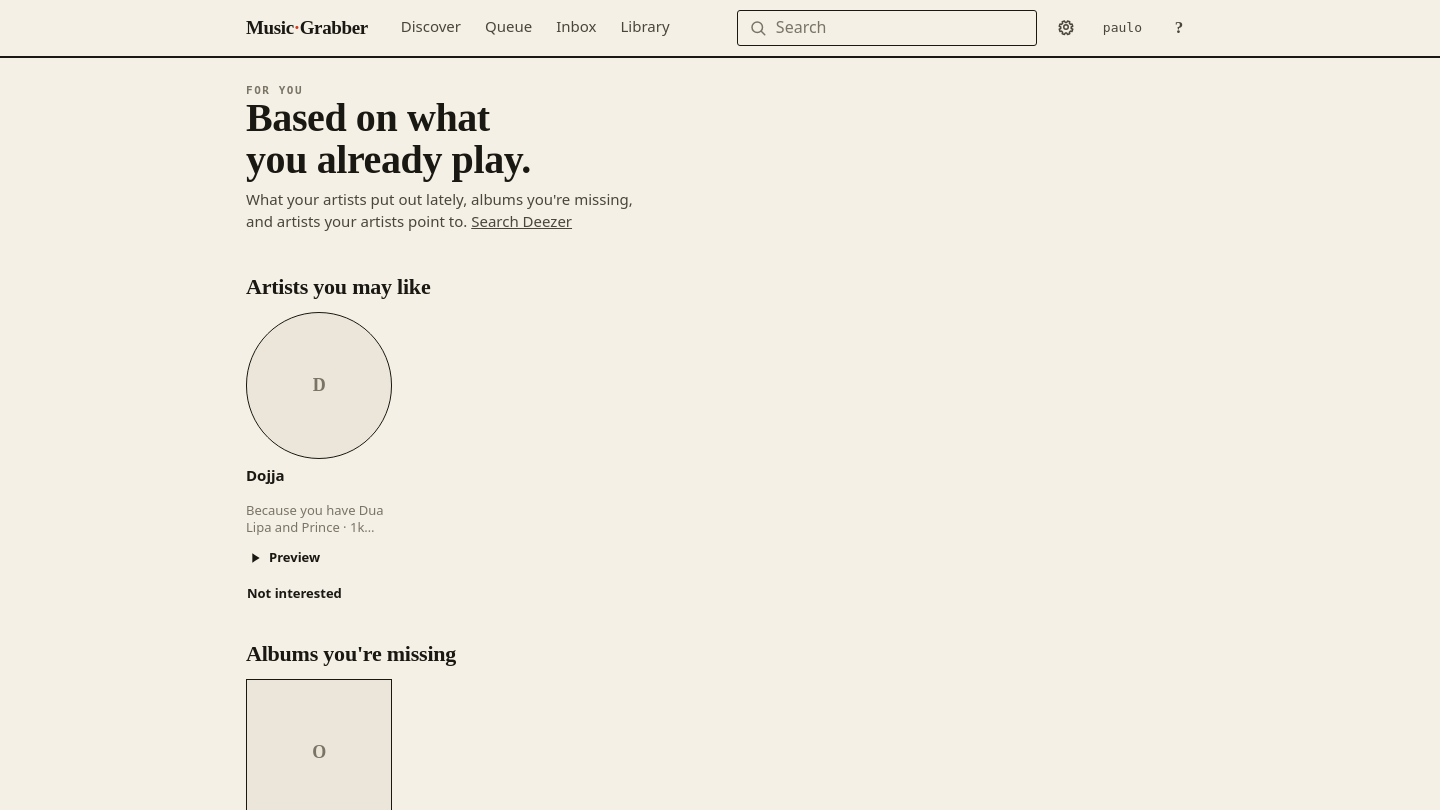
Test: tile previews › says so when there is nothing to play
Click the button with aria-label "Preview artist": (289, 558) x1=246 y1=542 x2=331 y2=574
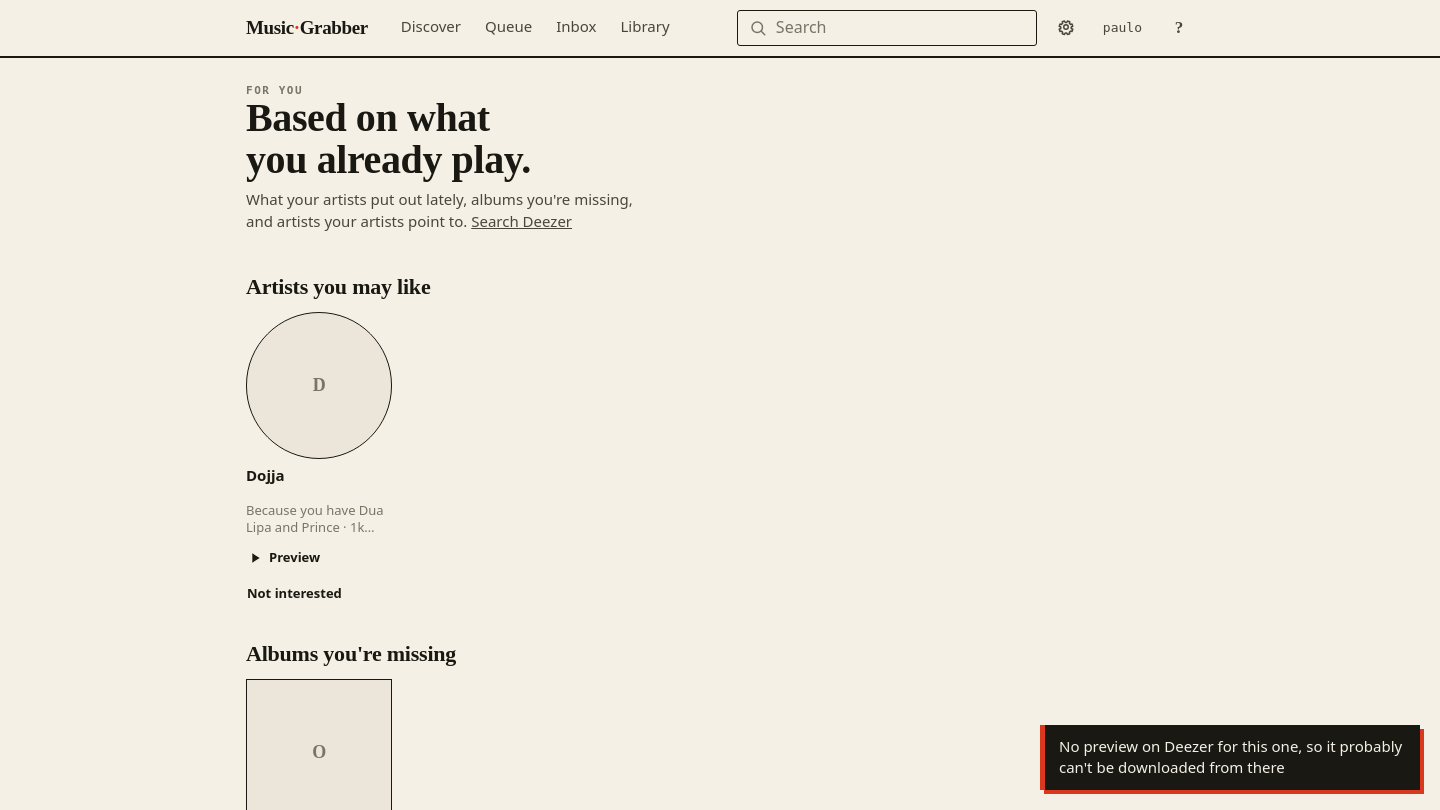
Expected: the text "No preview on Deezer for this one, so it probably can't be downloaded from there" is shown, x1=1059 y1=736 x2=1406 y2=779
